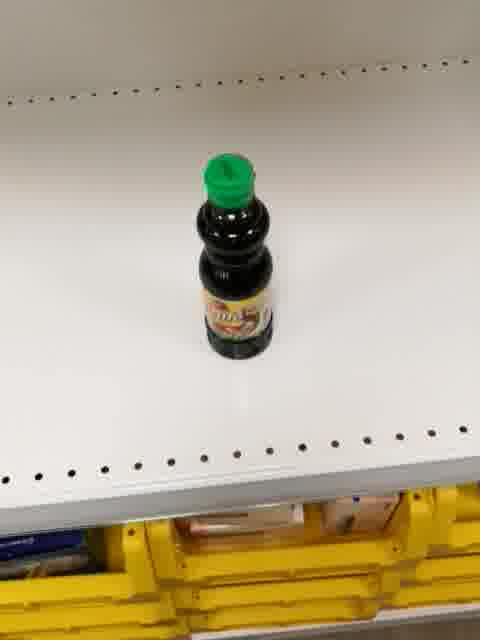cookingoil: (194, 149, 276, 362)
